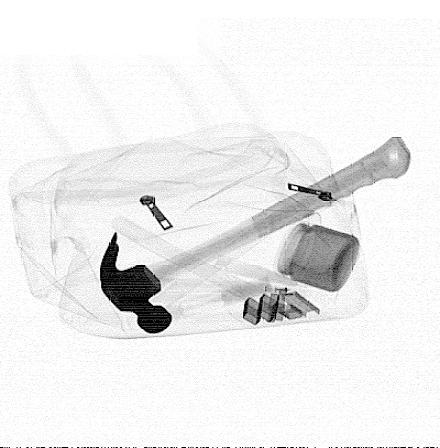Hammer: (98, 135, 412, 336)
